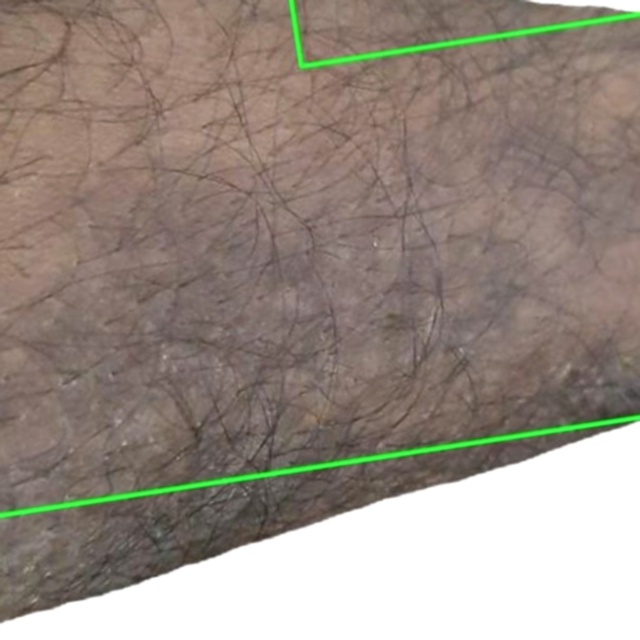Contact Dermatitis: (0, 416, 639, 639)
